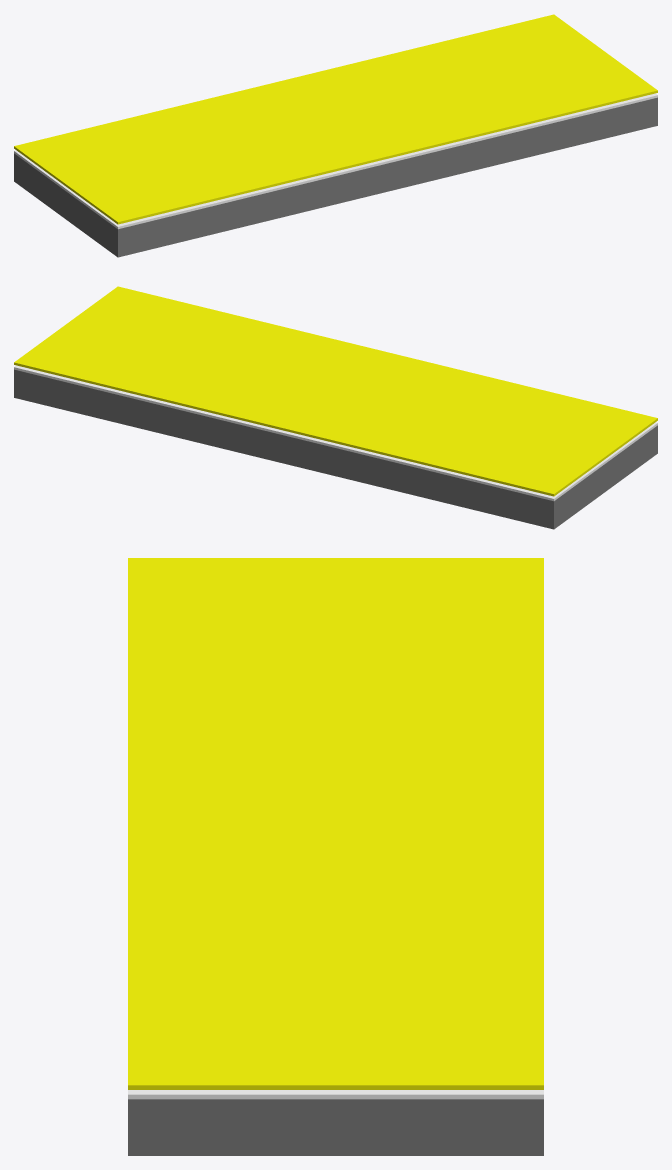
The model's file is Bảng hiệu alu chữ nổi mica.obj.
3 renders of one model, top to bottom at view 1: azimuth 30°, elevation 25°; view 2: azimuth 150°, elevation 25°; view 3: azimuth 270°, elevation 25°, orthographic. The views are drawn at different scales.
Visible parts, largest first — view 1: den_led, khung_sat_do, be_mat_bien; view 2: den_led, khung_sat_do, be_mat_bien; view 3: den_led, khung_sat_do, be_mat_bien.
Part boxes in pixels (x1,y1,x2,y2): den_led: (14, 14, 657, 224); khung_sat_do: (14, 97, 657, 257); be_mat_bien: (14, 93, 657, 229); den_led: (14, 286, 657, 496); khung_sat_do: (14, 369, 657, 529); be_mat_bien: (14, 365, 657, 501); den_led: (128, 558, 543, 1089); khung_sat_do: (128, 1099, 543, 1155); be_mat_bien: (128, 1090, 543, 1099).
Bounding box in the file's own units: 1.2 × 0.075 × 0.4.
